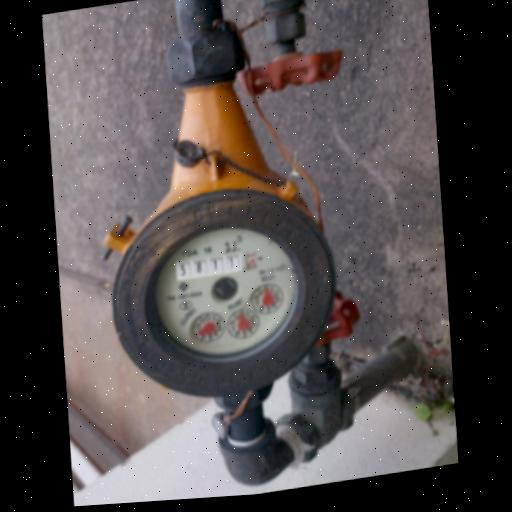1: (210, 257, 223, 273), (227, 255, 240, 270)
4: (245, 253, 257, 269)
5: (178, 262, 191, 278)
8: (194, 260, 207, 276)
border_water_meter_number: (175, 250, 259, 282)
